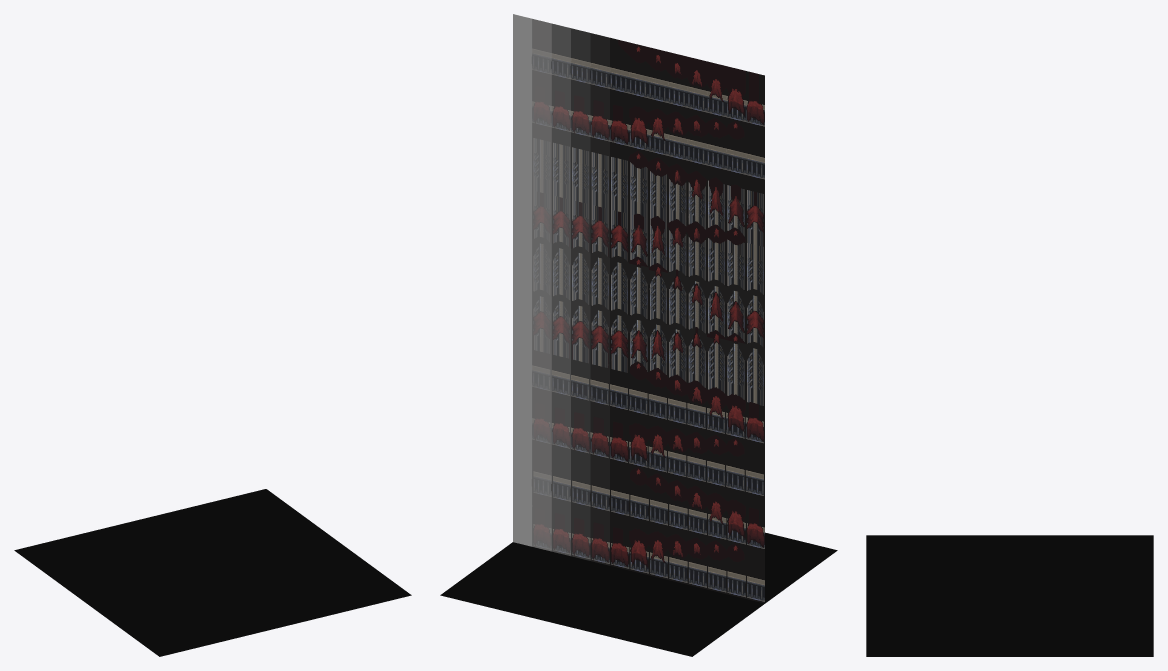
The model's file is Cell_Bars_H_02.glb.
3 views of the same model, side by side, from view 1: azimuth 30°, elevation 25°; view 2: azimuth 150°, elevation 25°; view 3: azimuth 270°, elevation 25° (orthographic).
Visible parts, largest first — view 1: Shadows, BlockShadows; view 2: Renderer, Shadows, BlockShadows; view 3: Shadows, BlockShadows.
Boxes of the visible parts, bbox=[...] form: Shadows: bbox=[136, 489, 411, 638]; BlockShadows: bbox=[14, 499, 270, 656]; Renderer: bbox=[513, 14, 764, 603]; Shadows: bbox=[440, 542, 657, 638]; BlockShadows: bbox=[601, 532, 837, 656]; Shadows: bbox=[866, 535, 1153, 656]; BlockShadows: bbox=[866, 535, 1153, 631].
Size of the model in its own units: 1 by 2 by 1.
Materials: 3 (3 with a texture image).
